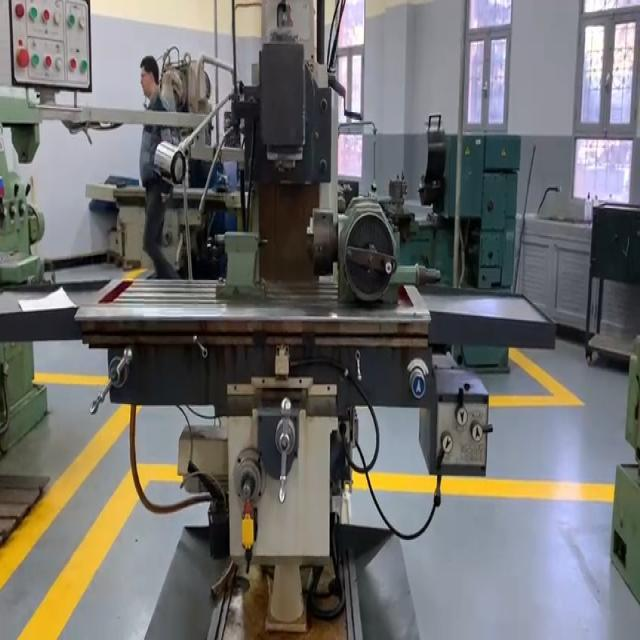fraiseuse: (0, 0, 555, 637)
